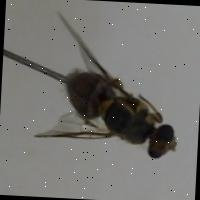Oriental-fruit-fly: (29, 9, 184, 164)
